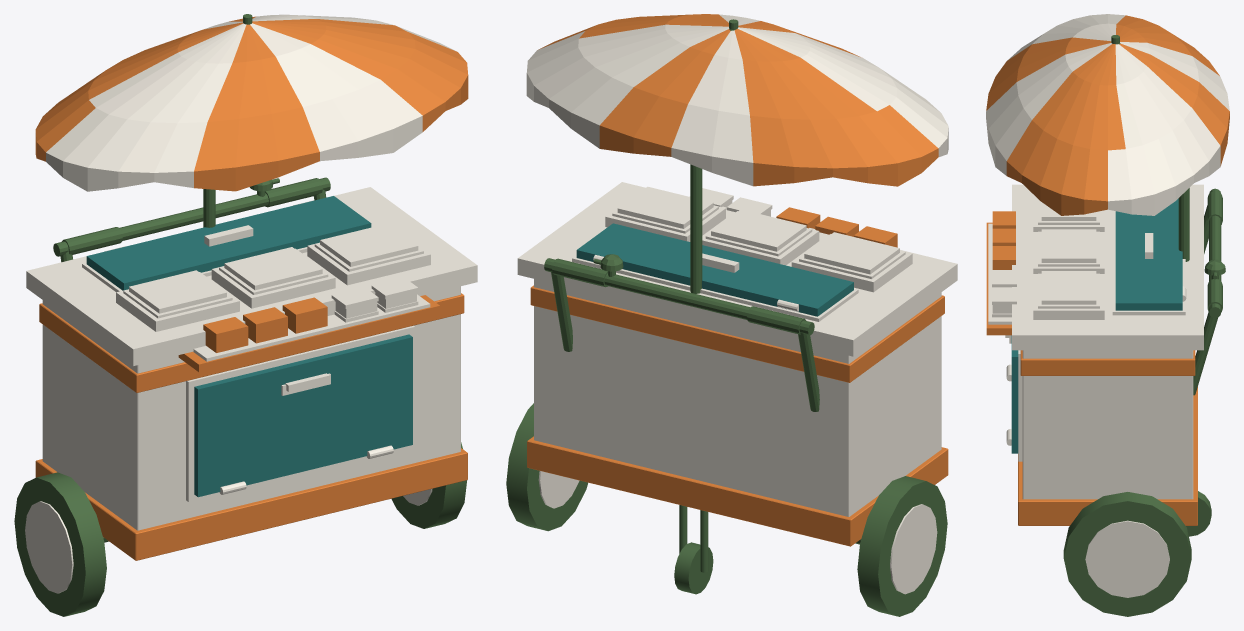
The model's file is s03-ice-cream-cart-potong-balanced.glb.
3 views of the same model, side by side, from view 1: azimuth 30°, elevation 25°; view 2: azimuth 150°, elevation 25°; view 3: azimuth 270°, elevation 25° (orthographic). The views are drawn at different scales.
Parts seen in each view (by area): view 1: Enamel chest and counter, Citrus parasol, Running gear and handle; view 2: Enamel chest and counter, Citrus parasol, Running gear and handle; view 3: Enamel chest and counter, Citrus parasol, Running gear and handle.
Part boxes in pixels (bbox=[...]): Enamel chest and counter: bbox=[26, 187, 477, 560]; Citrus parasol: bbox=[35, 14, 468, 227]; Running gear and handle: bbox=[14, 177, 466, 616]; Enamel chest and counter: bbox=[517, 182, 957, 546]; Citrus parasol: bbox=[526, 14, 948, 293]; Running gear and handle: bbox=[506, 254, 947, 616]; Enamel chest and counter: bbox=[986, 184, 1203, 525]; Citrus parasol: bbox=[986, 14, 1229, 261]; Running gear and handle: bbox=[1063, 188, 1225, 616].
Size of the model in its own units: 2 by 2.57 by 1.14.
1 material, 1 textured.
